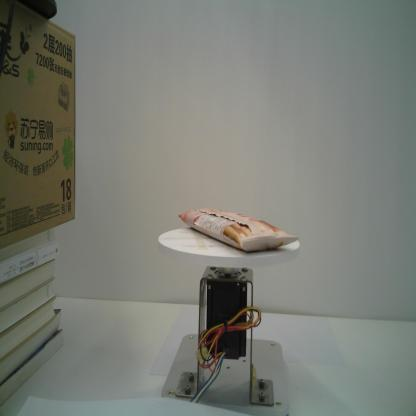Dessert: (178, 207, 300, 254)
